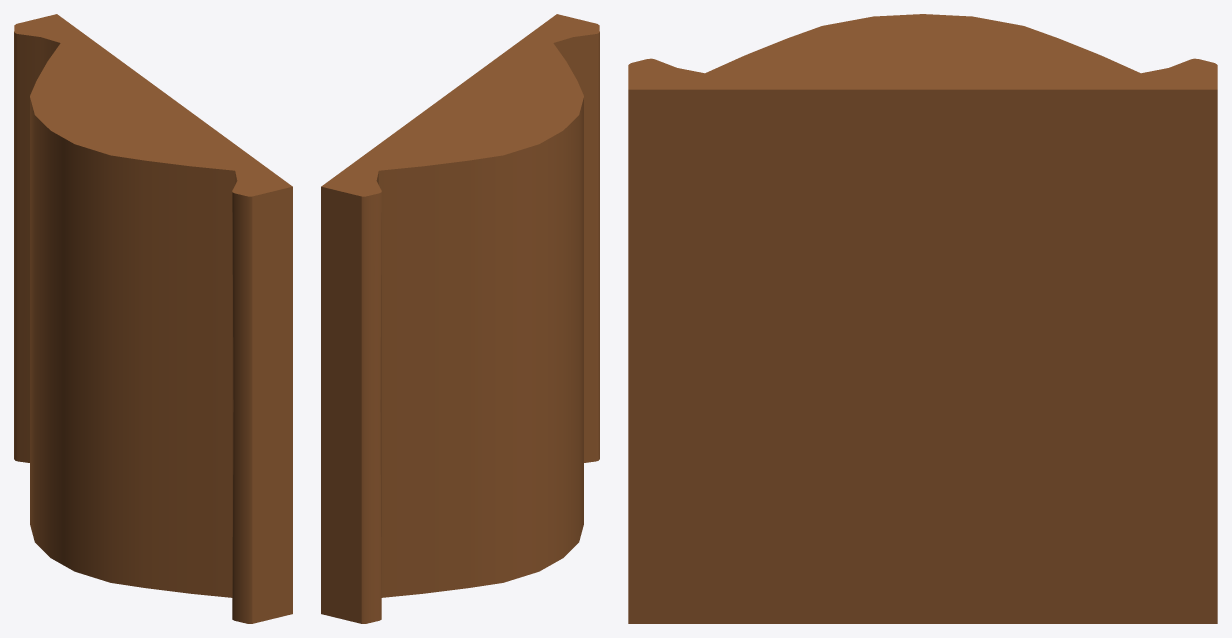
Rendered from 18_19_wall_deco_vert_2_joins.glb.
The picture shows the model from 3 angles, left to right: view 1: azimuth 30°, elevation 25°; view 2: azimuth 150°, elevation 25°; view 3: azimuth 270°, elevation 25°; orthographic projection. The views are drawn at different scales.
Visible parts, largest first — view 1: Plane; view 2: Plane; view 3: Plane.
Part boxes in pixels (x1,y1,x2,y2): Plane: (14,14,292,623); Plane: (321,14,599,623); Plane: (628,14,1217,623).
Size of the model in its own units: 0.2282 by 0.75 by 0.75.
